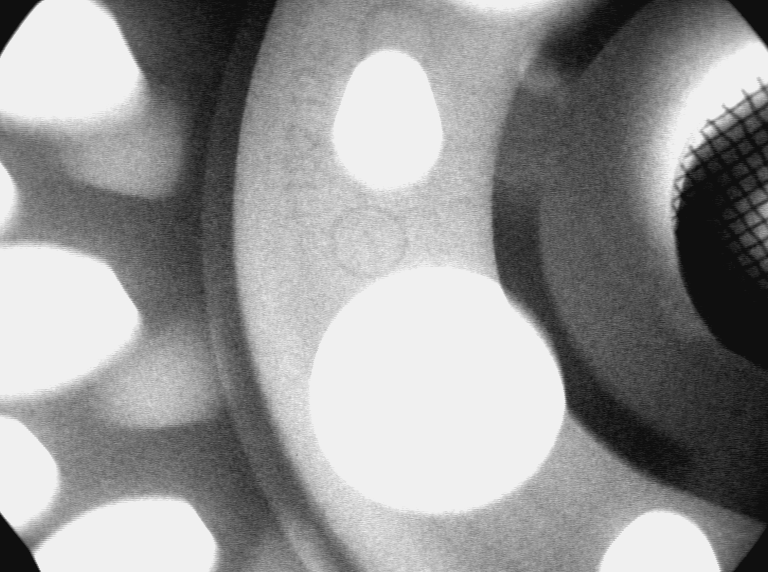defect: (516, 50, 570, 105)
